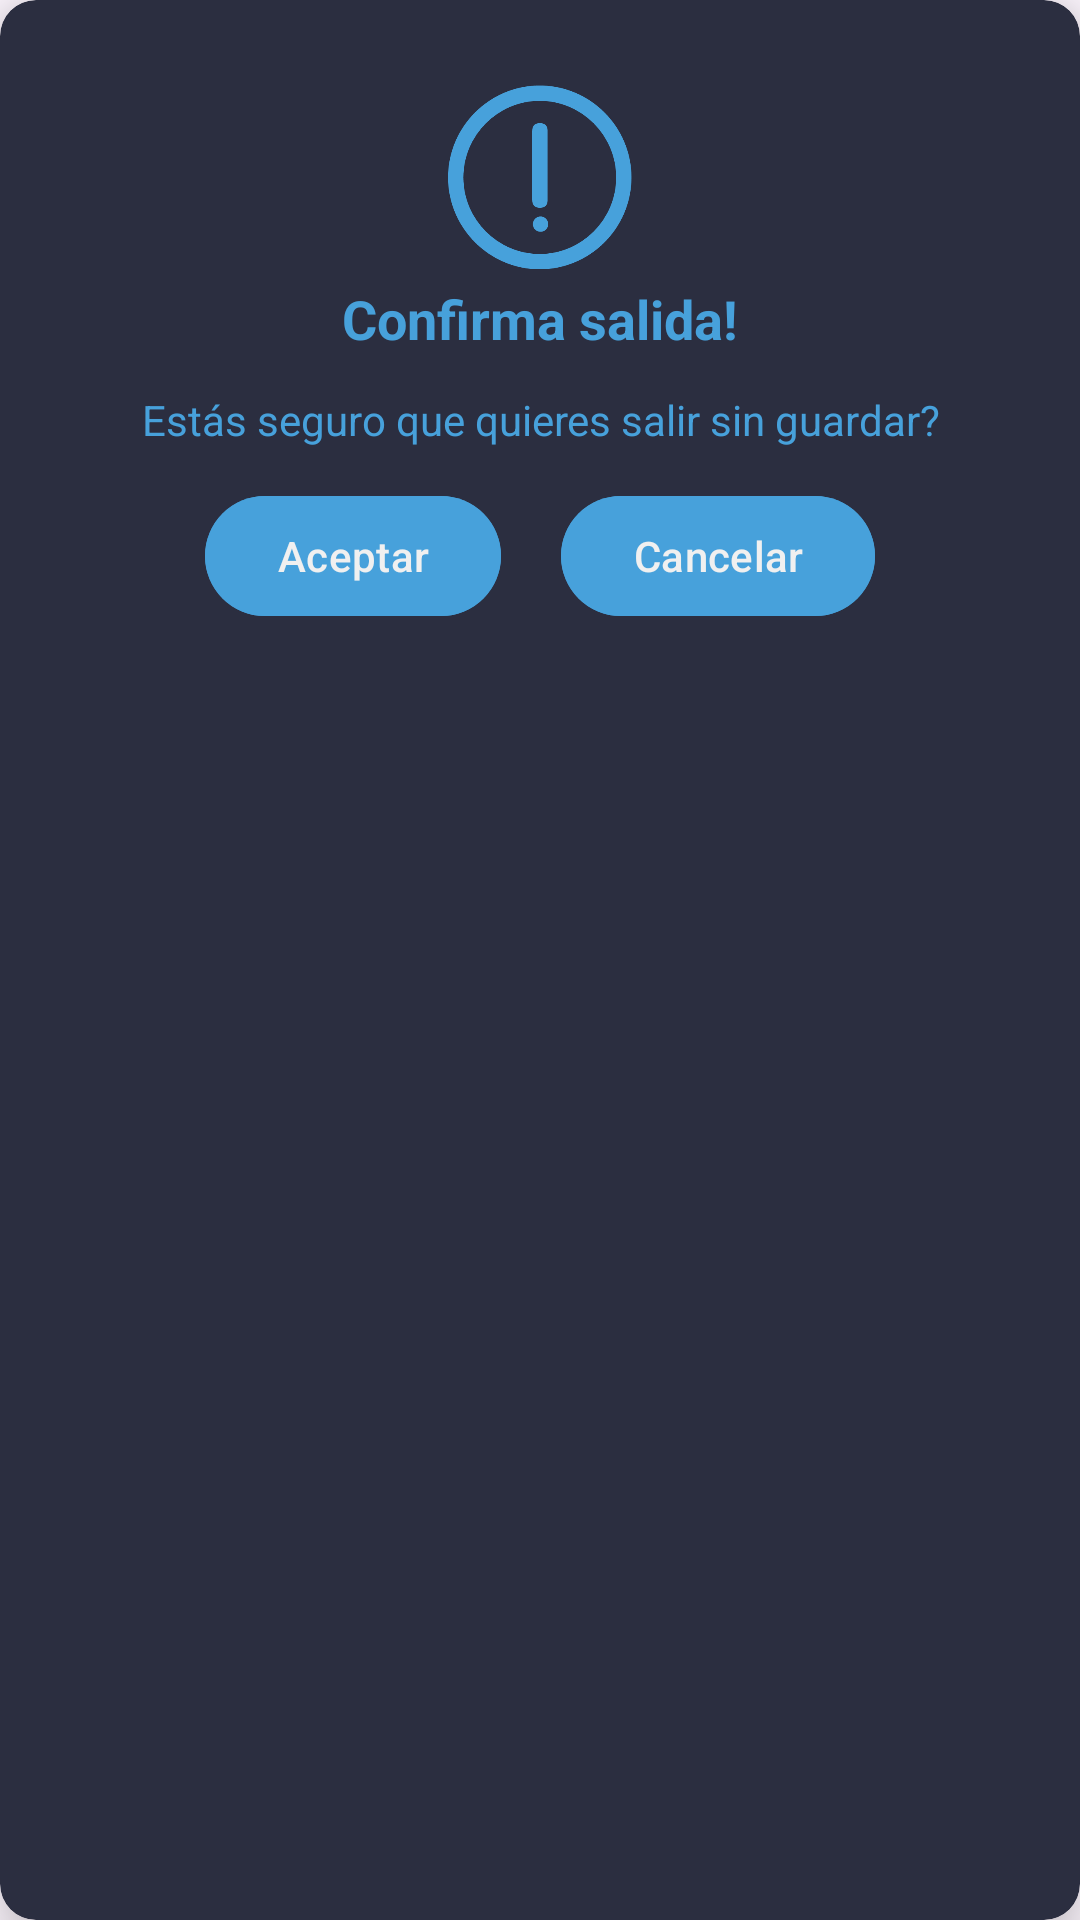

Icons on this 1080px x 1920px Android screen, each with the point to tap as (x=x, y=y):
warning: (x=540, y=177)
